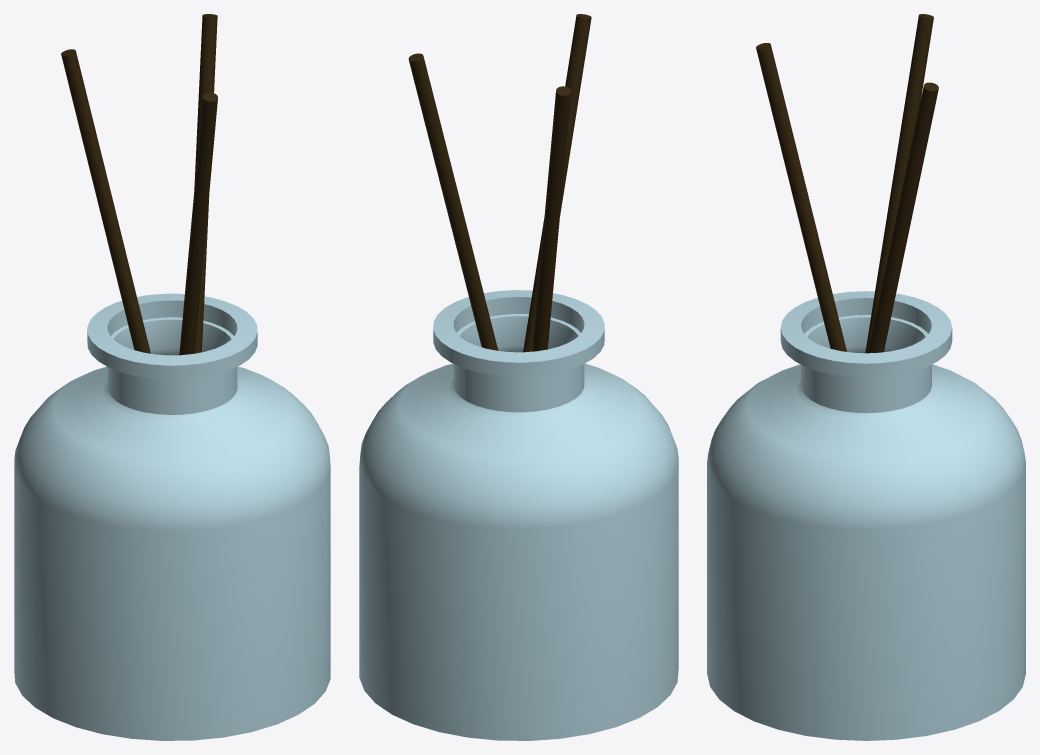
Rendered from diffuser.glb.
3 renders of one model, left to right at view 1: azimuth 30°, elevation 25°; view 2: azimuth 150°, elevation 25°; view 3: azimuth 270°, elevation 25°, orthographic.
Parts seen in each view (by area): view 1: 円柱, 円柱.001, 円柱.003, 円柱.002; view 2: 円柱, 円柱.002, 円柱.001, 円柱.003; view 3: 円柱, 円柱.003, 円柱.002, 円柱.001.
Boxes of the visible parts, x1=… form: 円柱: x1=14, y1=293, x2=330, y2=740; 円柱.001: x1=61, y1=49, x2=150, y2=353; 円柱.003: x1=179, y1=92, x2=217, y2=355; 円柱.002: x1=194, y1=14, x2=217, y2=353; 円柱: x1=359, y1=290, x2=678, y2=740; 円柱.002: x1=408, y1=53, x2=498, y2=350; 円柱.001: x1=532, y1=86, x2=571, y2=351; 円柱.003: x1=523, y1=14, x2=591, y2=352; 円柱: x1=707, y1=291, x2=1025, y2=740; 円柱.003: x1=756, y1=43, x2=846, y2=351; 円柱.002: x1=868, y1=82, x2=938, y2=353; 円柱.001: x1=865, y1=14, x2=933, y2=353.
Size of the model in its own units: 2 by 4.31 by 2.
